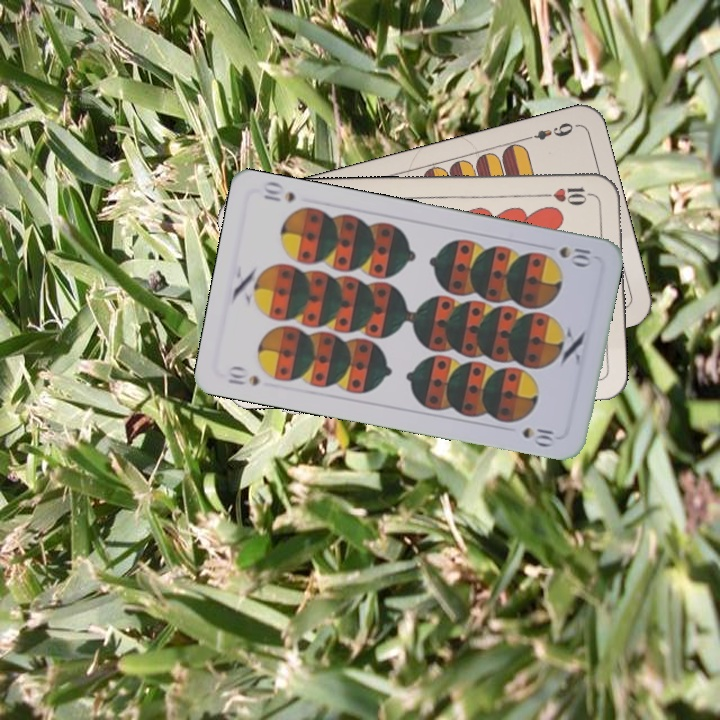E9: (521, 118, 576, 143)
H10: (537, 183, 596, 206)
S10: (555, 242, 595, 269), (224, 362, 263, 388)
